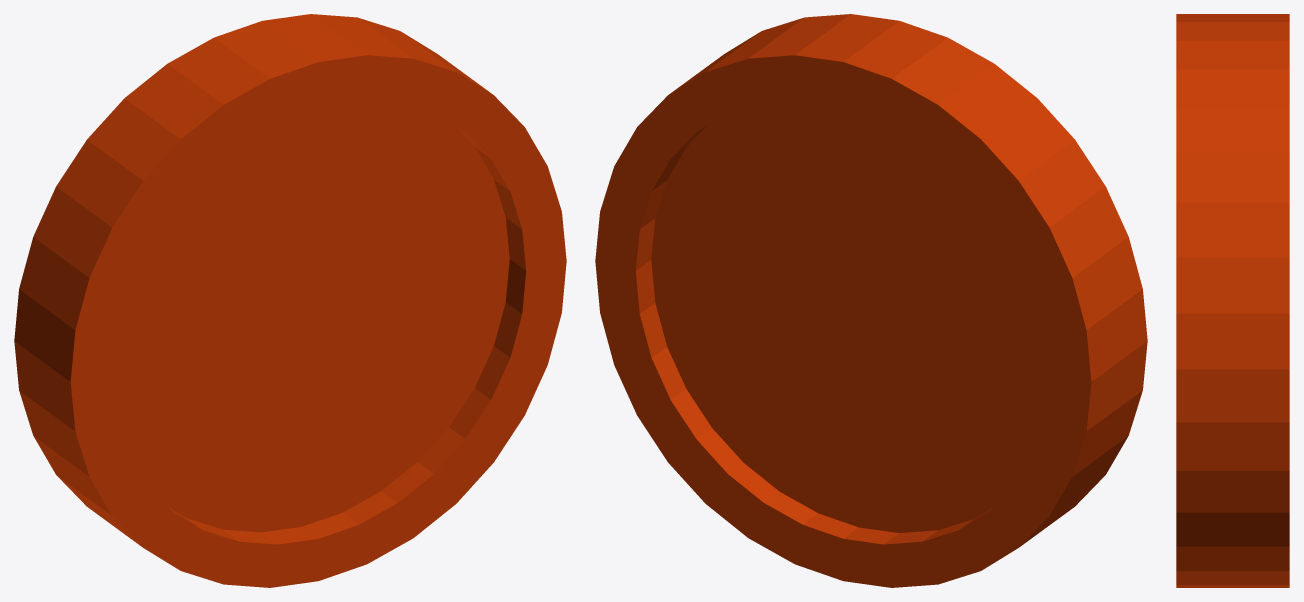
Rendered from coin.obj.
3 views of the same model, side by side, from view 1: azimuth 30°, elevation 25°; view 2: azimuth 150°, elevation 25°; view 3: azimuth 270°, elevation 25° (orthographic).
Parts seen in each view (by area): view 1: Cylinder; view 2: Cylinder; view 3: Cylinder.
Boxes of the visible parts, x1,y1,x2,y2 form: Cylinder: (14,14,566,587); Cylinder: (595,14,1147,587); Cylinder: (1176,14,1289,587).
Bounding box in the file's own units: 0.9321 × 0.9321 × 0.1833.
